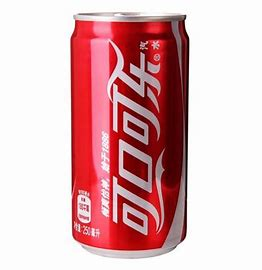Coke: (69, 11, 193, 256)
